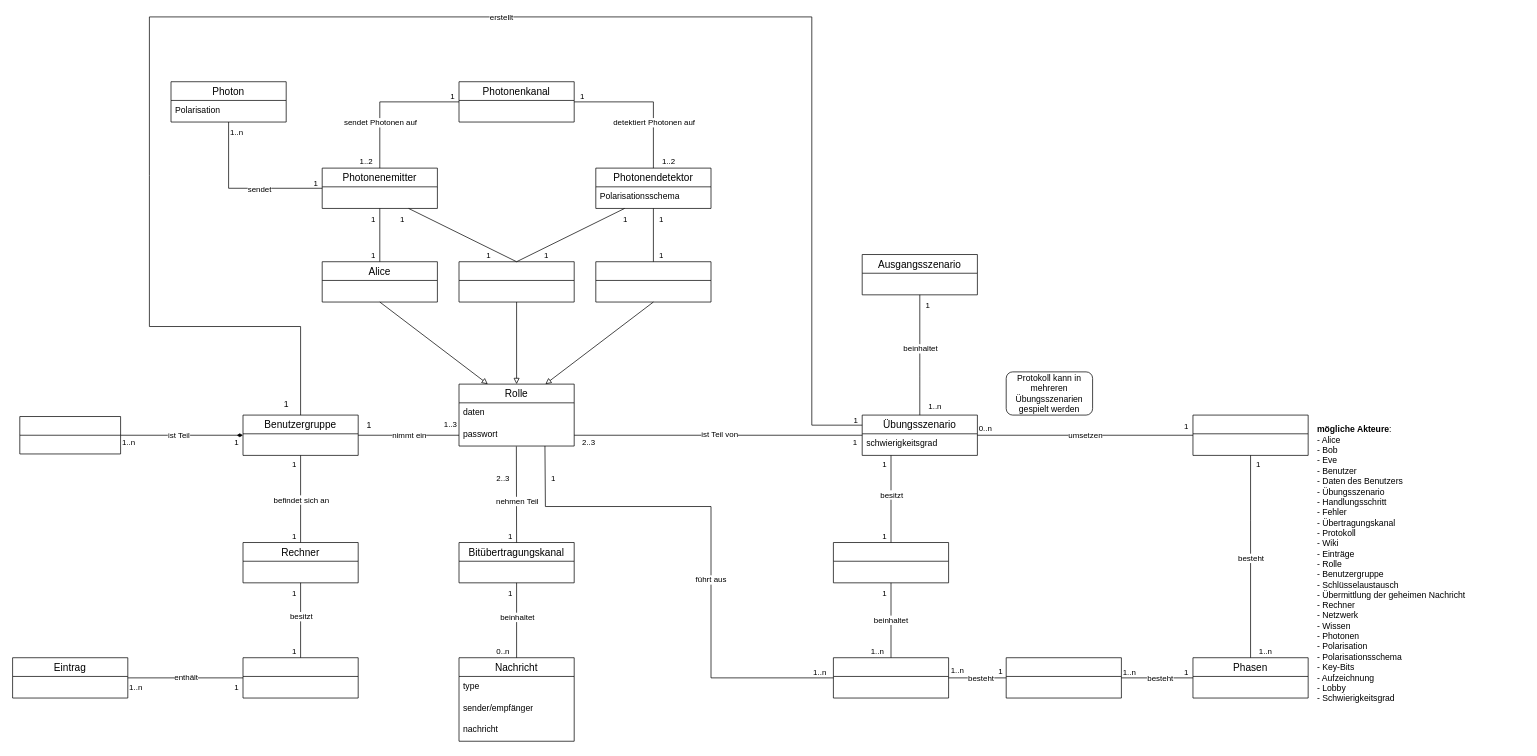
Some shapes in this 1537 by 756 pixel diagram are drawn without their labels. The shapes that lost their labels are listed below. From the top down, each one's centre as x and y in pixels, then its label:
point (516, 281): Eve
point (653, 281): Bob
point (70, 435): Benutzer
point (1250, 434): Protokoll
point (891, 562): Aufzeichnung
point (300, 677): Wiki
point (891, 677): Handlungsschritt
point (1063, 677): Zug
